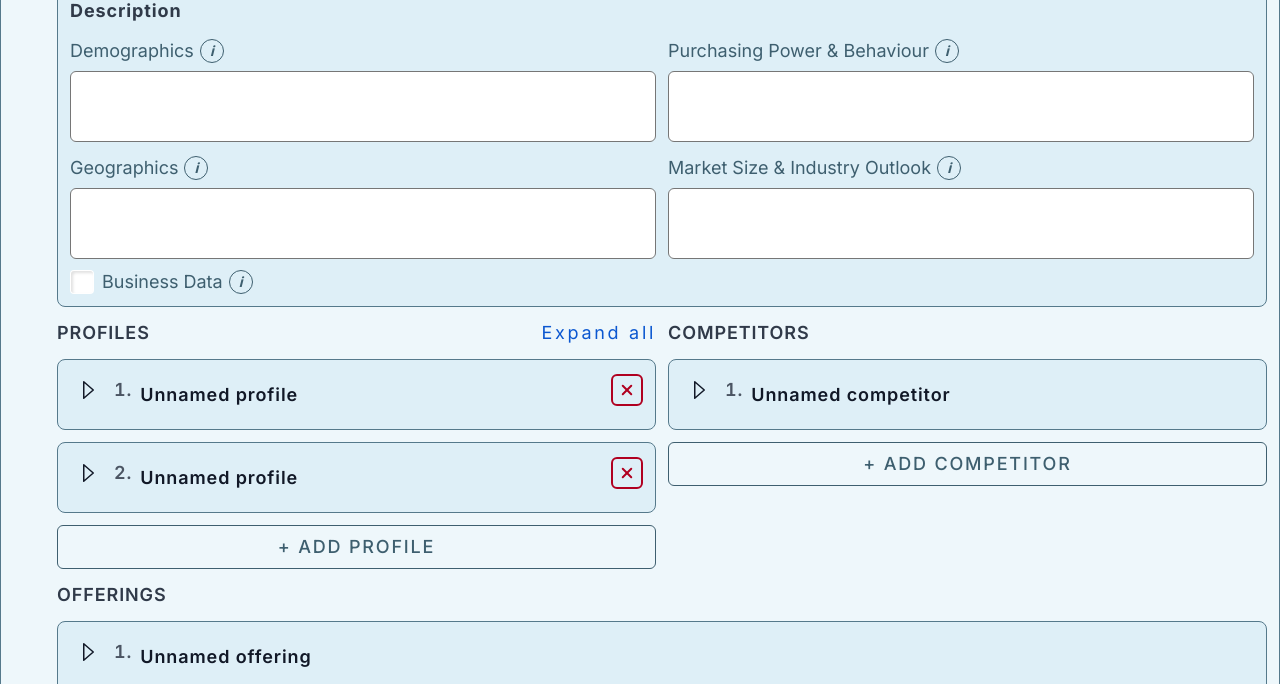
Scenario: BusinessFoundationEditor folding › expands all Profiles in a Segment
(page scrolled)
Click the button with aria-label "Expand all profiles" at (599, 334), box top-left (542, 318), bottom-right (656, 350)
(page scrolled)
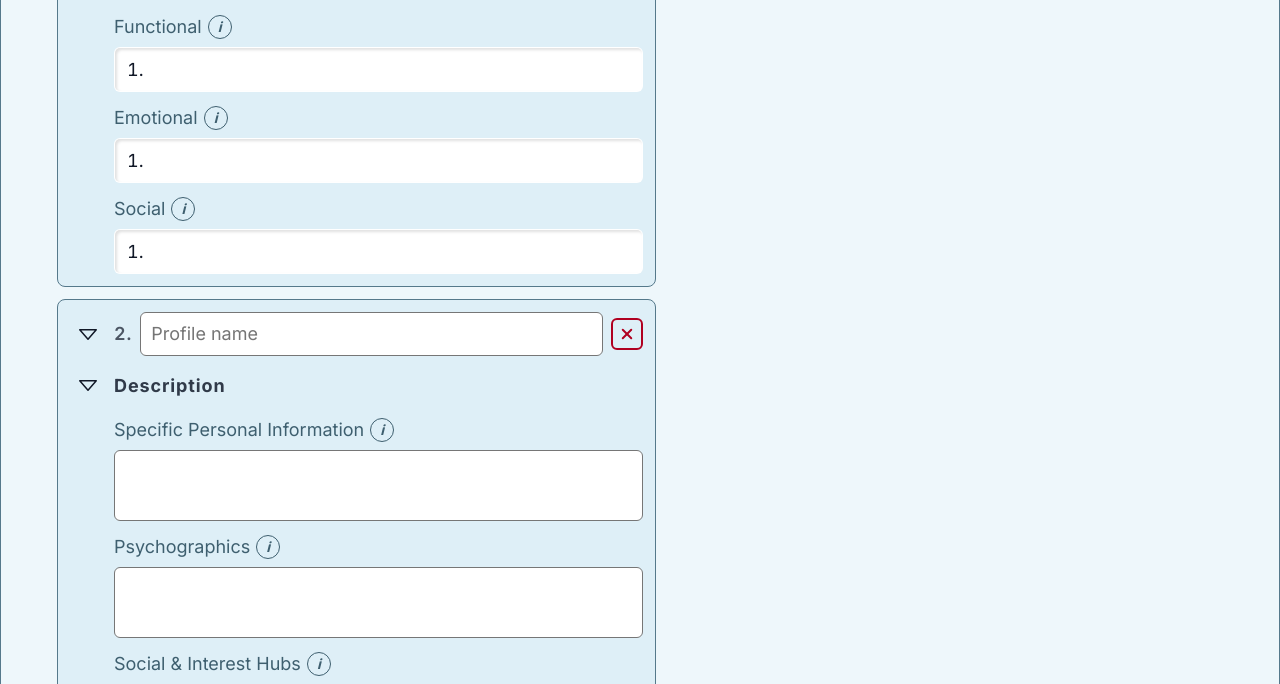
expect the 2nd button "▾" is expanded: met, box top-left (70, 316), bottom-right (106, 352)
